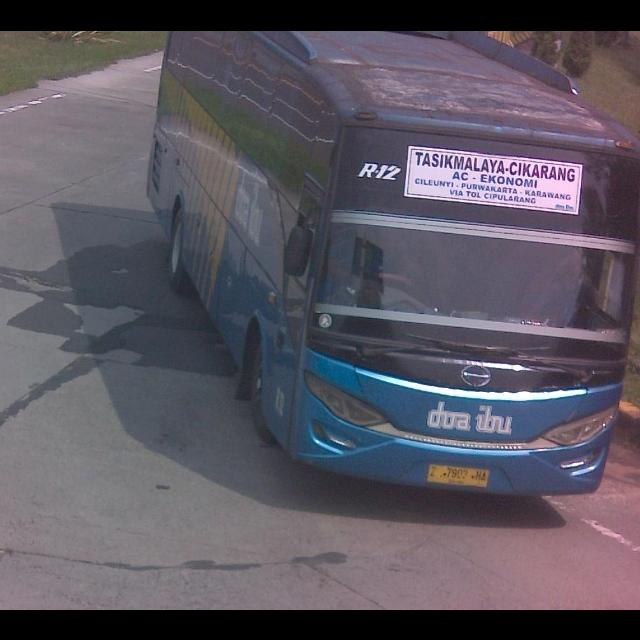plate: (429, 461, 491, 487)
